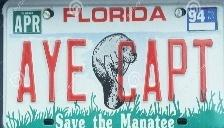A: (14, 39, 39, 104), (141, 38, 163, 103)
C: (114, 39, 139, 104)
E: (65, 37, 91, 104)
P: (166, 38, 190, 102)
T: (191, 37, 216, 104)
Y: (40, 38, 64, 103)
